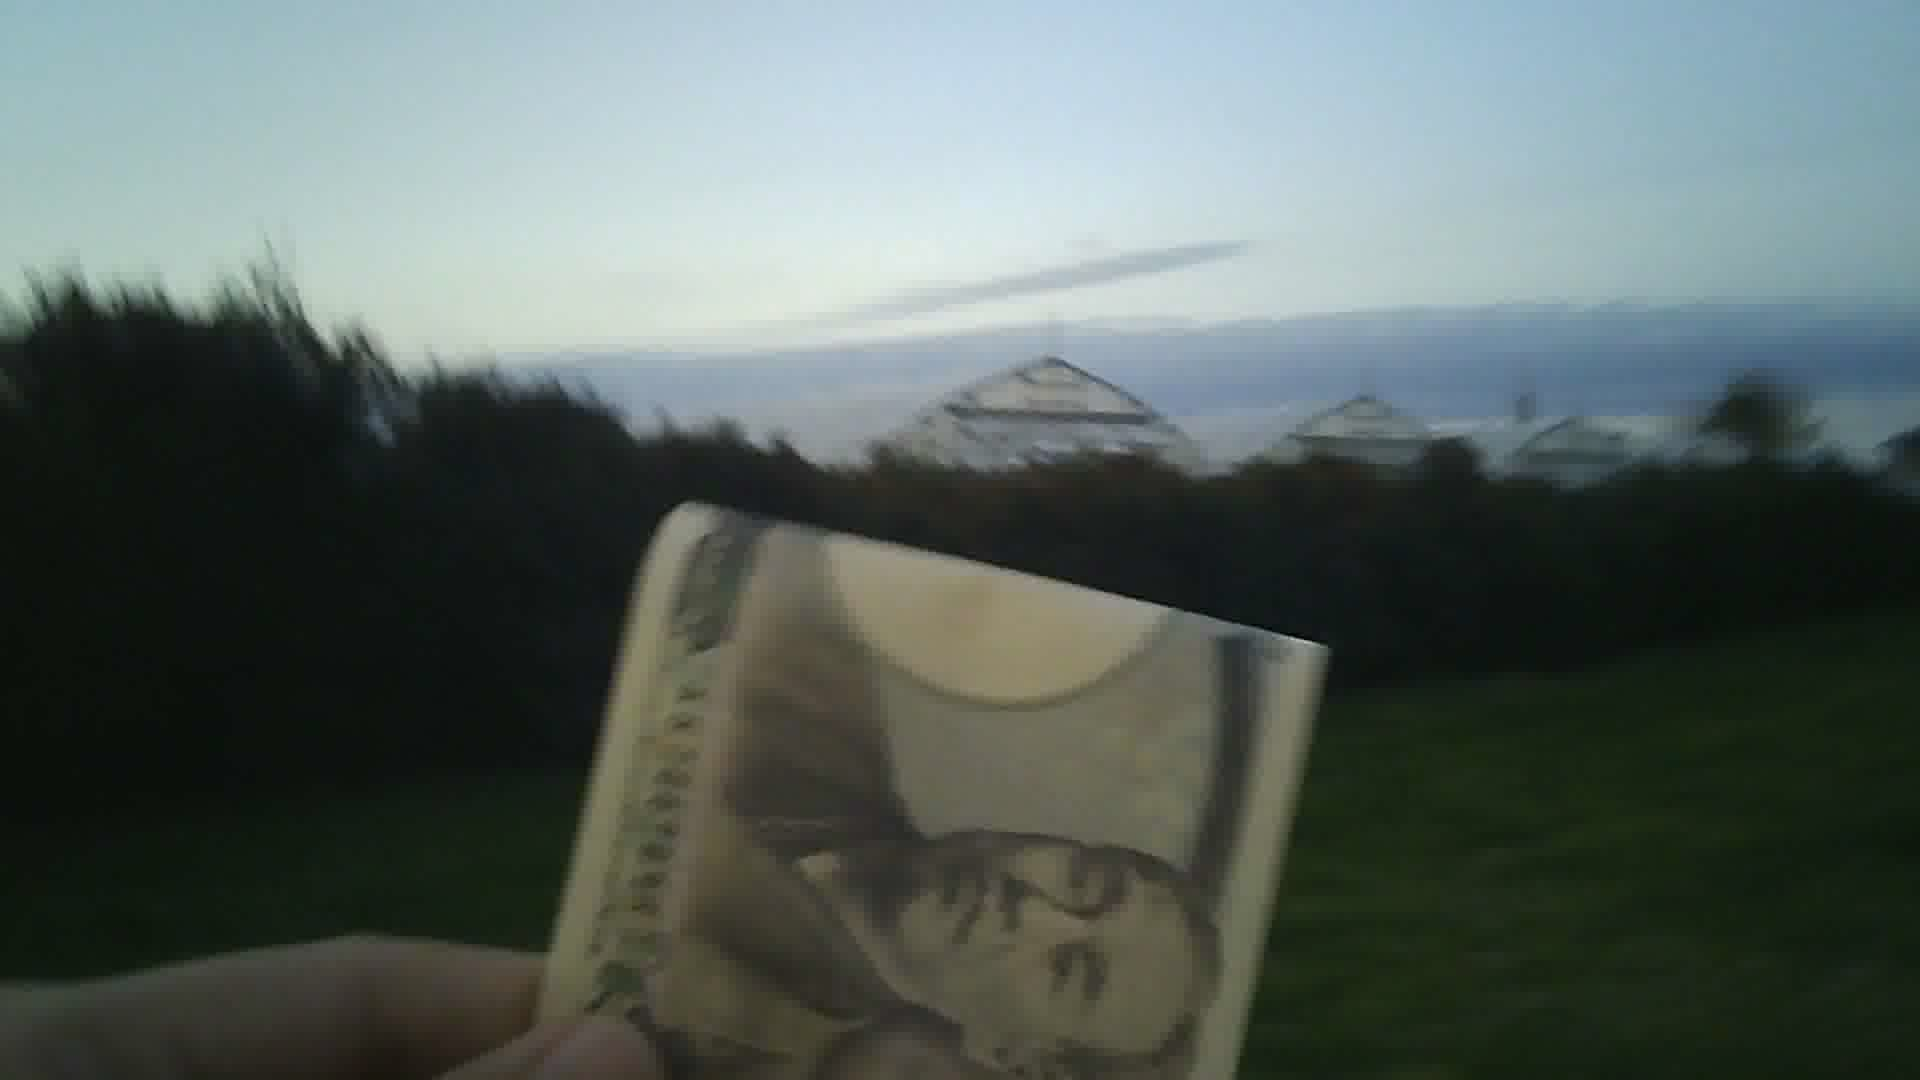10,000 Yen: (554, 492, 1274, 1079)
